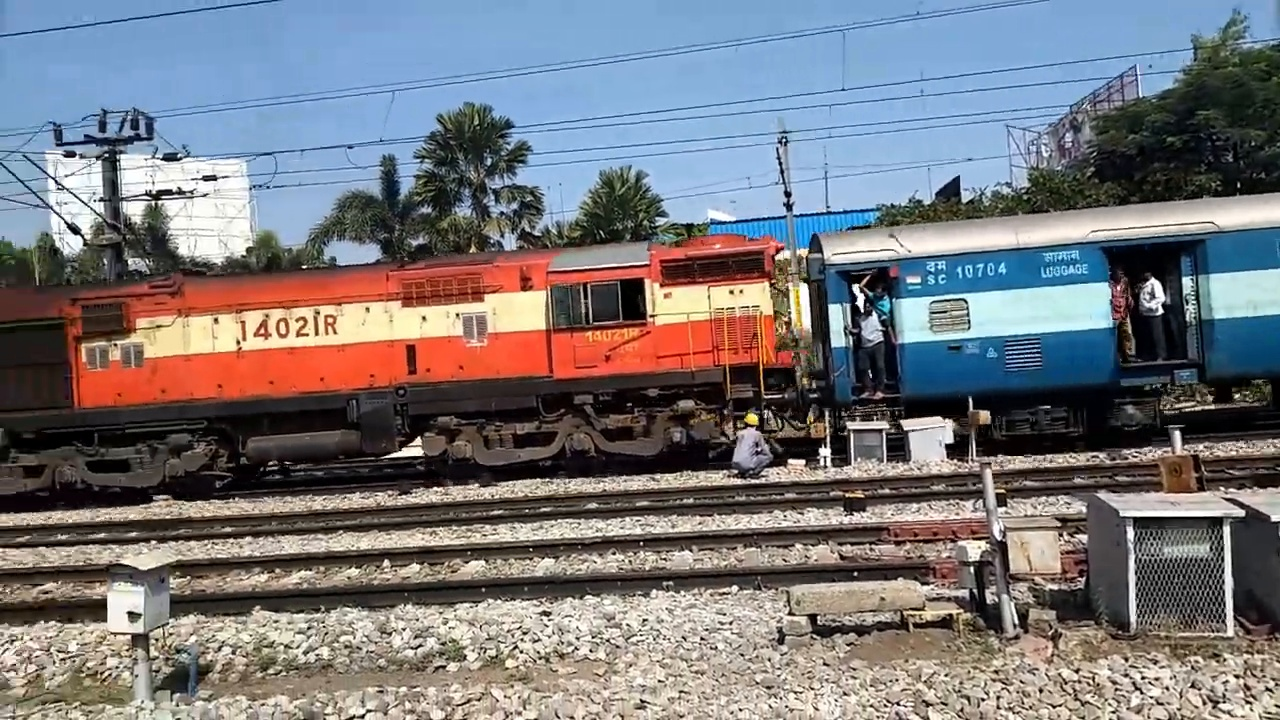Boogie: (954, 262, 1032, 291)
Car Type: (1036, 251, 1099, 281)
Engine: (228, 304, 355, 346), (579, 319, 649, 353)
